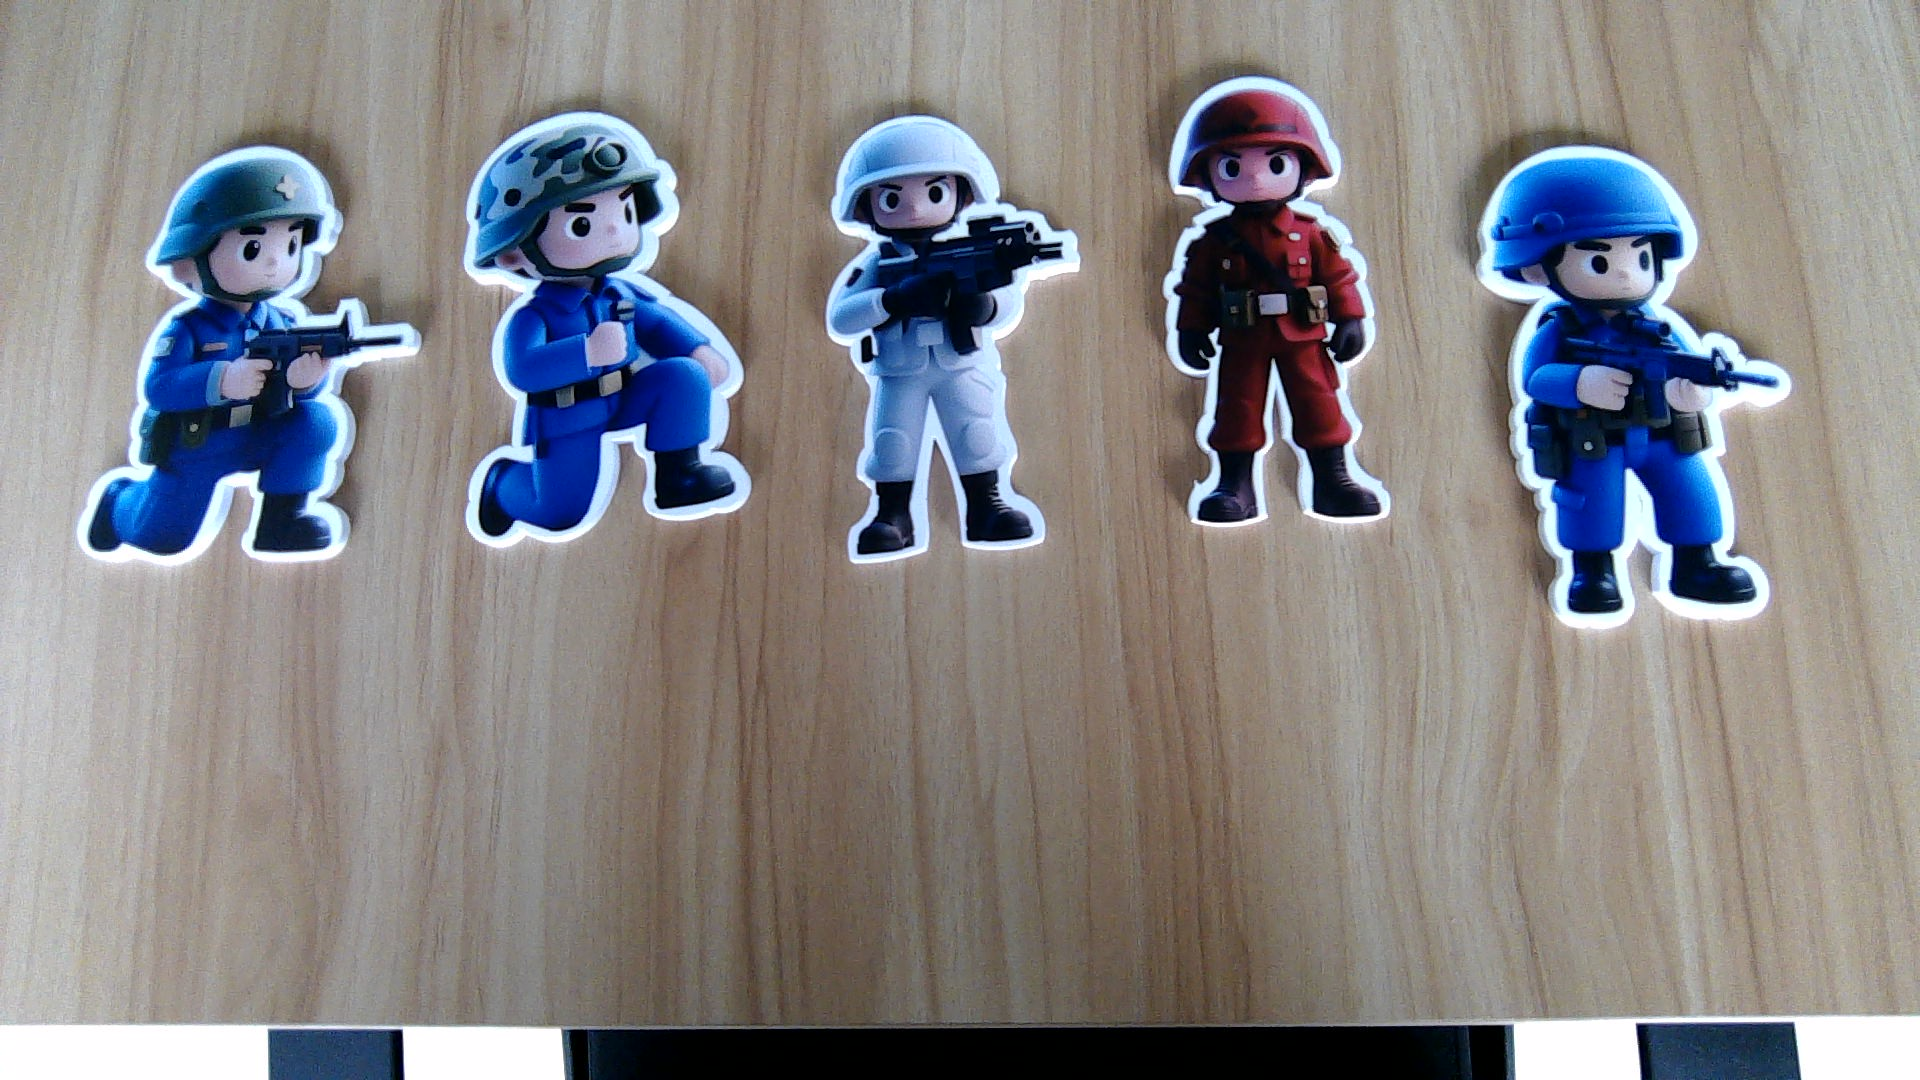人质: (824, 243, 1067, 558)
敌人1: (1160, 207, 1391, 522)
敌人2: (1499, 306, 1793, 642), (71, 306, 415, 574), (464, 282, 752, 543)
